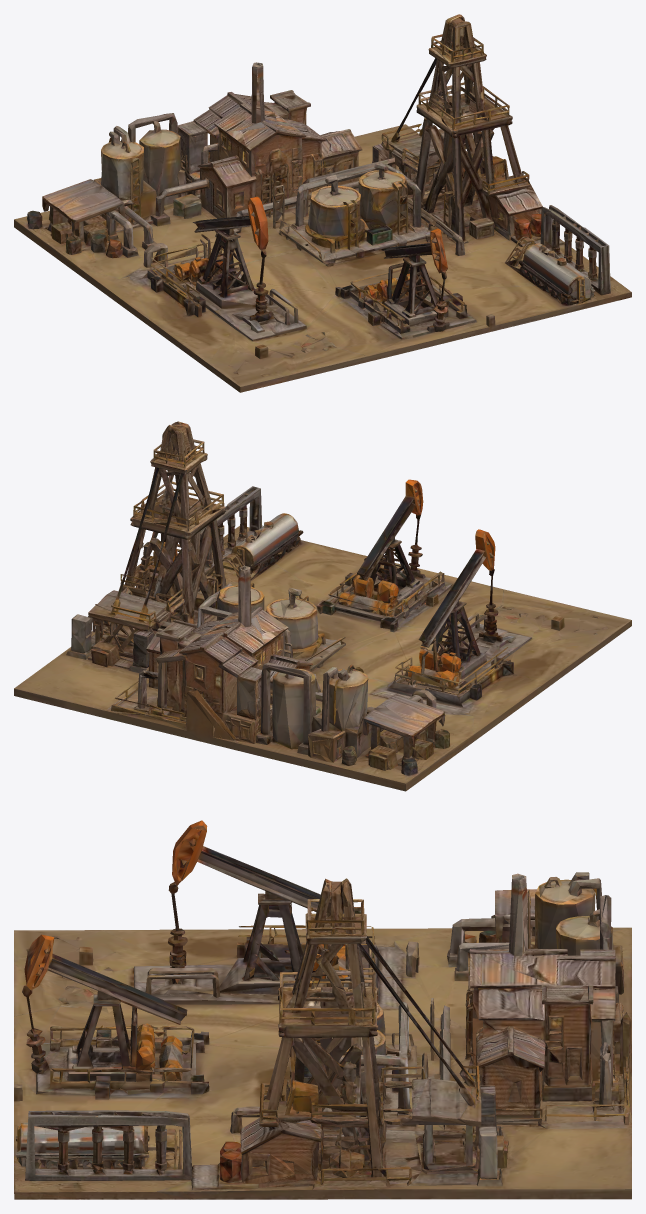
Rendered from oil_rig.glb.
3 renders of one model, top to bottom at view 1: azimuth 30°, elevation 25°; view 2: azimuth 150°, elevation 25°; view 3: azimuth 270°, elevation 25°, orthographic. The views are drawn at different scales.
Parts seen in each view (by area): view 1: normalize; view 2: normalize; view 3: normalize.
Part boxes in pixels (<box>): normalize: <box>14,14,631,392</box>; normalize: <box>14,421,631,791</box>; normalize: <box>14,820,631,1199</box>.
Bounding box in the file's own units: 1 × 0.5064 × 0.9999.
Materials: 1 (1 with a texture image).
